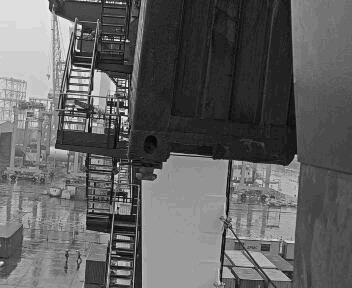twist_lock_1: (110, 166, 162, 206)
